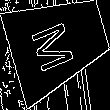M_E: (33, 13, 84, 73)
